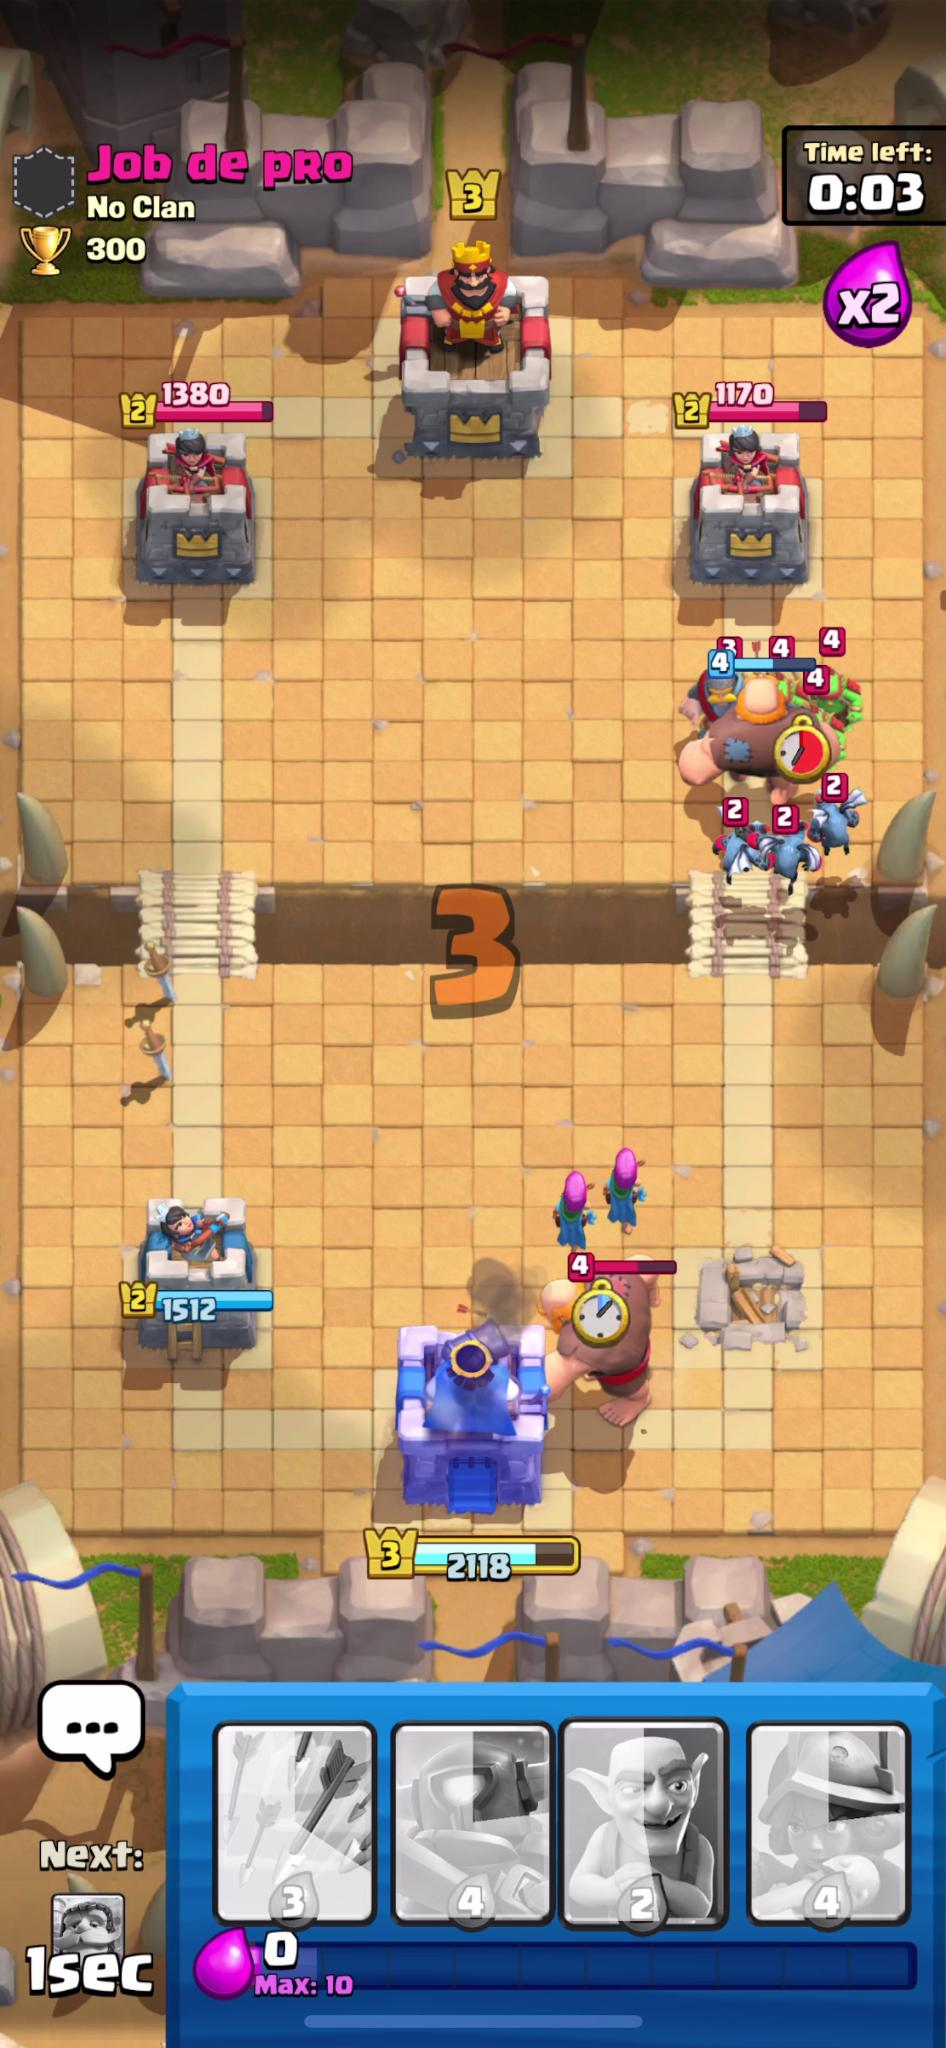archere: (596, 1134, 660, 1236), (546, 1159, 602, 1254)
chevalier: (676, 653, 760, 741)
gargouille: (763, 827, 819, 896), (711, 823, 762, 892), (815, 795, 862, 870)
geant: (674, 682, 857, 818)
gobelin_lances: (817, 674, 869, 735)
